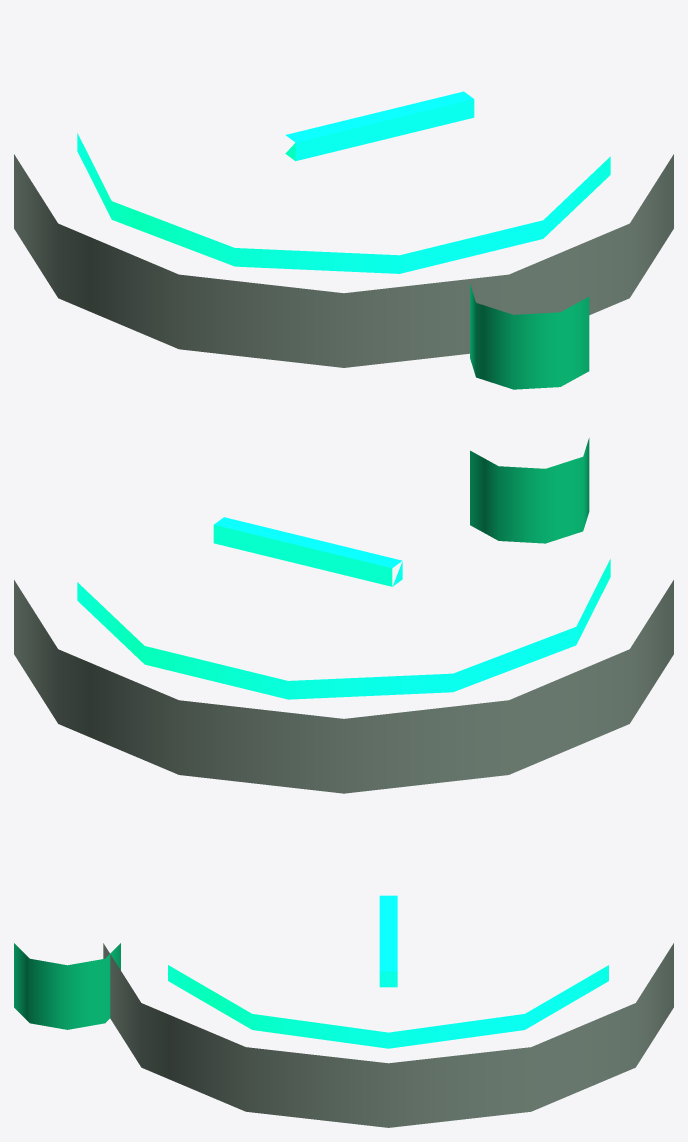
File: relojes_bolsillo.glb
The picture shows the model from 3 angles, top to bottom: view 1: azimuth 30°, elevation 25°; view 2: azimuth 150°, elevation 25°; view 3: azimuth 270°, elevation 25°; orthographic projection. The views are drawn at different scales.
Parts seen in each view (by area): view 1: Base, Glow, Accent; view 2: Base, Glow, Accent; view 3: Base, Glow, Accent.
Part boxes in pixels (x1,y1,x2,y2): Base: (14,154,673,367); Glow: (77,91,610,273); Accent: (470,284,589,389); Base: (14,580,673,793); Glow: (77,517,610,699); Accent: (470,438,589,543); Base: (103,943,673,1127); Glow: (168,895,608,1048); Accent: (14,943,120,1029).
Size of the model in its own units: 0.32 by 0.055 by 0.37.
